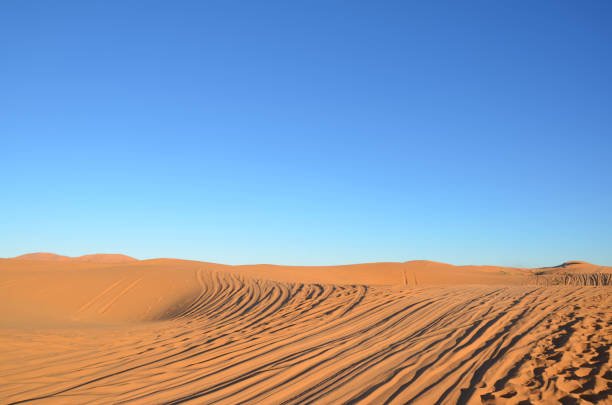vehicle_track: (0, 269, 611, 403)
